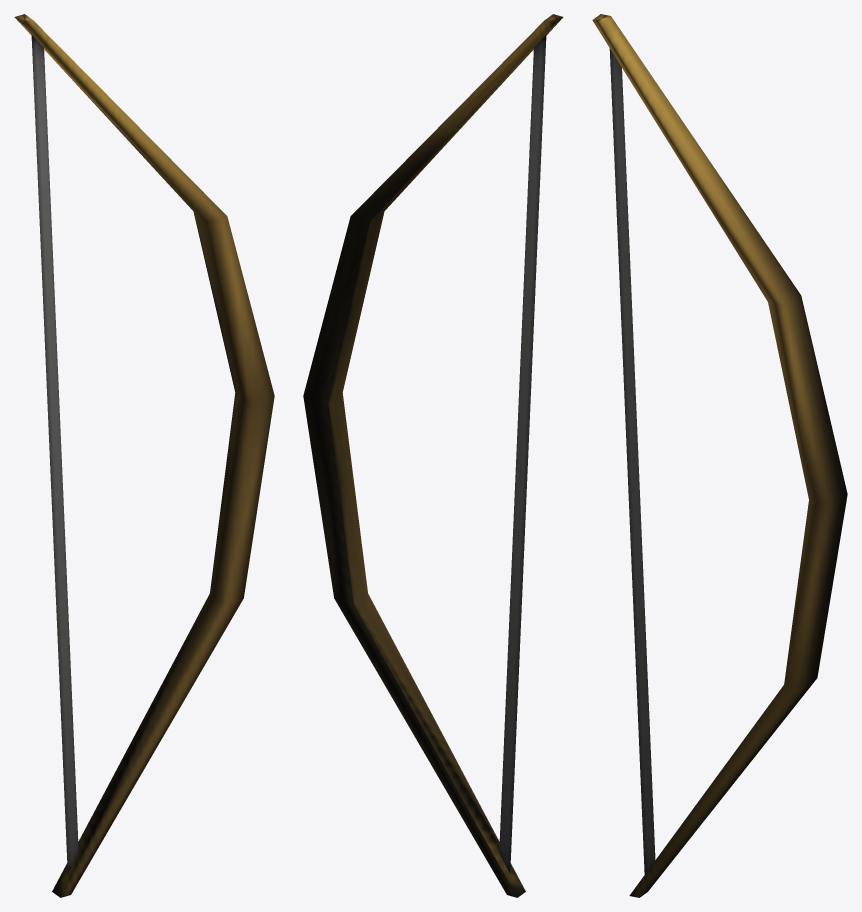
File: Bow 5.fbx
3 renders of one model, left to right at view 1: azimuth 30°, elevation 25°; view 2: azimuth 150°, elevation 25°; view 3: azimuth 330°, elevation 25°, orthographic.
Visible parts, largest first — view 1: Bow5; view 2: Bow5; view 3: Bow5.
Boxes of the visible parts, bbox=[...] form: Bow5: bbox=[14, 14, 274, 897]; Bow5: bbox=[303, 14, 563, 897]; Bow5: bbox=[592, 14, 847, 897].
Bounding box in the file's own units: 0.4192 × 1.42 × 0.0421.
